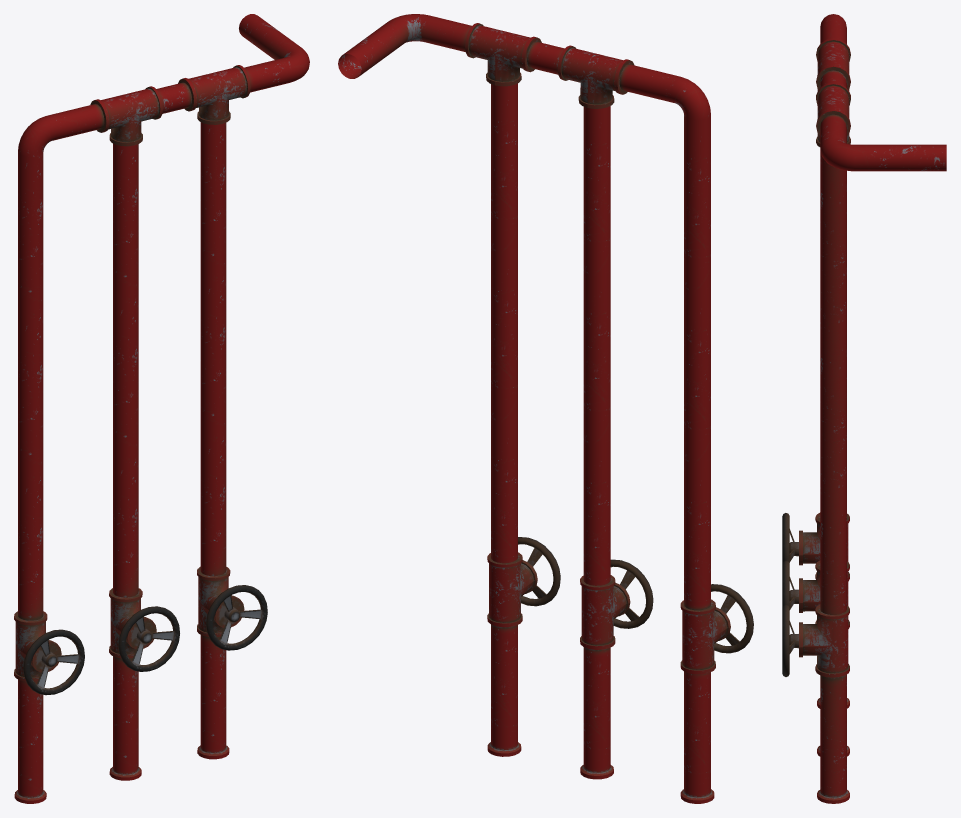
The model's file is MetalPipeC.fbx.
3 renders of one model, left to right at view 1: azimuth 30°, elevation 25°; view 2: azimuth 150°, elevation 25°; view 3: azimuth 270°, elevation 25°, orthographic. The views are drawn at different scales.
Visible parts, largest first — view 1: MetalPipeC; view 2: MetalPipeC; view 3: MetalPipeC.
Part boxes in pixels (<box>): MetalPipeC: <box>14,14,309,803</box>; MetalPipeC: <box>338,14,753,803</box>; MetalPipeC: <box>782,14,946,803</box>.
Bounding box in the file's own units: 189 × 389 × 82.77.
